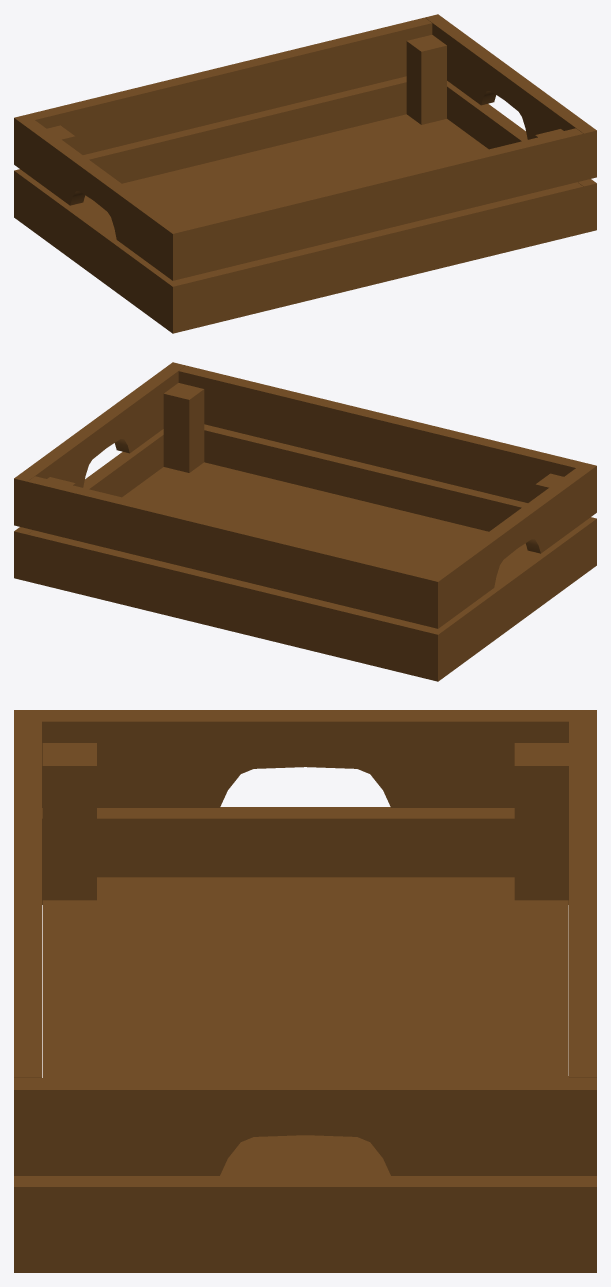
3 renders of one model, top to bottom at view 1: azimuth 30°, elevation 25°; view 2: azimuth 150°, elevation 25°; view 3: azimuth 270°, elevation 25°, orthographic. The views are drawn at different scales.
Parts seen in each view (by area): view 1: pCube3, pCube2, pCube4, pCube1, pCube5, pCube9, pCube8, pCube14, pCube7, pCube11; view 2: pCube4, pCube5, pCube3, pCube1, pCube2, pCube9, pCube8, pCube14, pCube12, pCube7; view 3: pCube1, pCube7, pCube14, pCube9, pCube8, pCube3, pCube4, pCube10, pCube13.
Part boxes in pixels (<box>): pCube3: <box>178,128,583,277</box>; pCube2: <box>180,182,583,330</box>; pCube4: <box>27,17,432,154</box>; pCube1: <box>77,114,488,231</box>; pCube5: <box>83,76,406,183</box>; pCube9: <box>14,114,185,280</box>; pCube8: <box>14,169,185,333</box>; pCube14: <box>425,14,596,180</box>; pCube7: <box>447,81,596,233</box>; pCube11: <box>406,35,446,124</box>; pCube4: <box>27,476,432,625</box>; pCube5: <box>27,530,430,678</box>; pCube3: <box>178,365,583,502</box>; pCube1: <box>122,462,533,579</box>; pCube2: <box>204,424,527,531</box>; pCube9: <box>425,462,596,628</box>; pCube8: <box>425,517,596,681</box>; pCube14: <box>14,362,185,528</box>; pCube12: <box>163,383,204,472</box>; pCube7: <box>14,429,163,581</box>; pCube1: <box>42,877,568,1174</box>; pCube7: <box>14,1175,596,1272</box>; pCube14: <box>14,1078,596,1175</box>; pCube9: <box>14,710,596,807</box>; pCube8: <box>42,807,568,904</box>; pCube3: <box>14,721,41,1077</box>; pCube4: <box>569,721,596,1077</box>; pCube10: <box>514,743,568,900</box>; pCube13: <box>42,743,96,900</box>.
Bounding box in the file's own units: 1.44 × 0.3248 × 0.9371.
